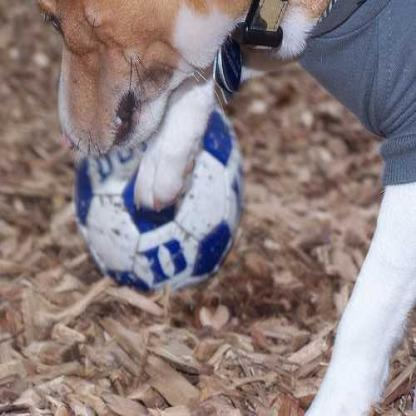ball: (76, 94, 244, 290)
